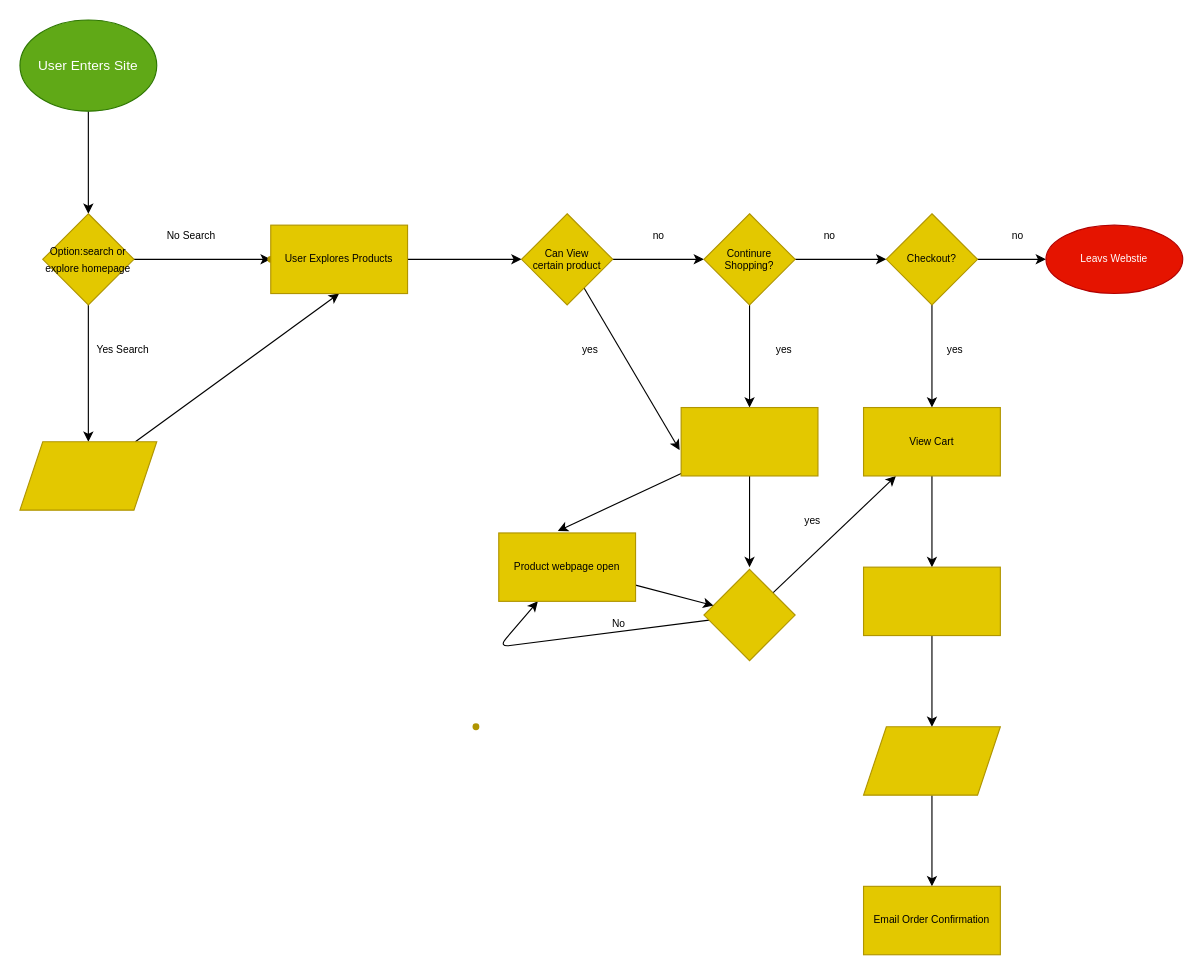
Image size: 1203x975. Some labels were removed from this diagram. Here are the shapes that lost their labels. From the top down, the centre of each, then its label:
At point (749, 441): "Add to cart confirmation".
At point (88, 475): "User provides input for search".
At point (749, 614): "Add Item to cart?".
At point (931, 601): "View Payment".
At point (931, 760): "Enter Payment info".
